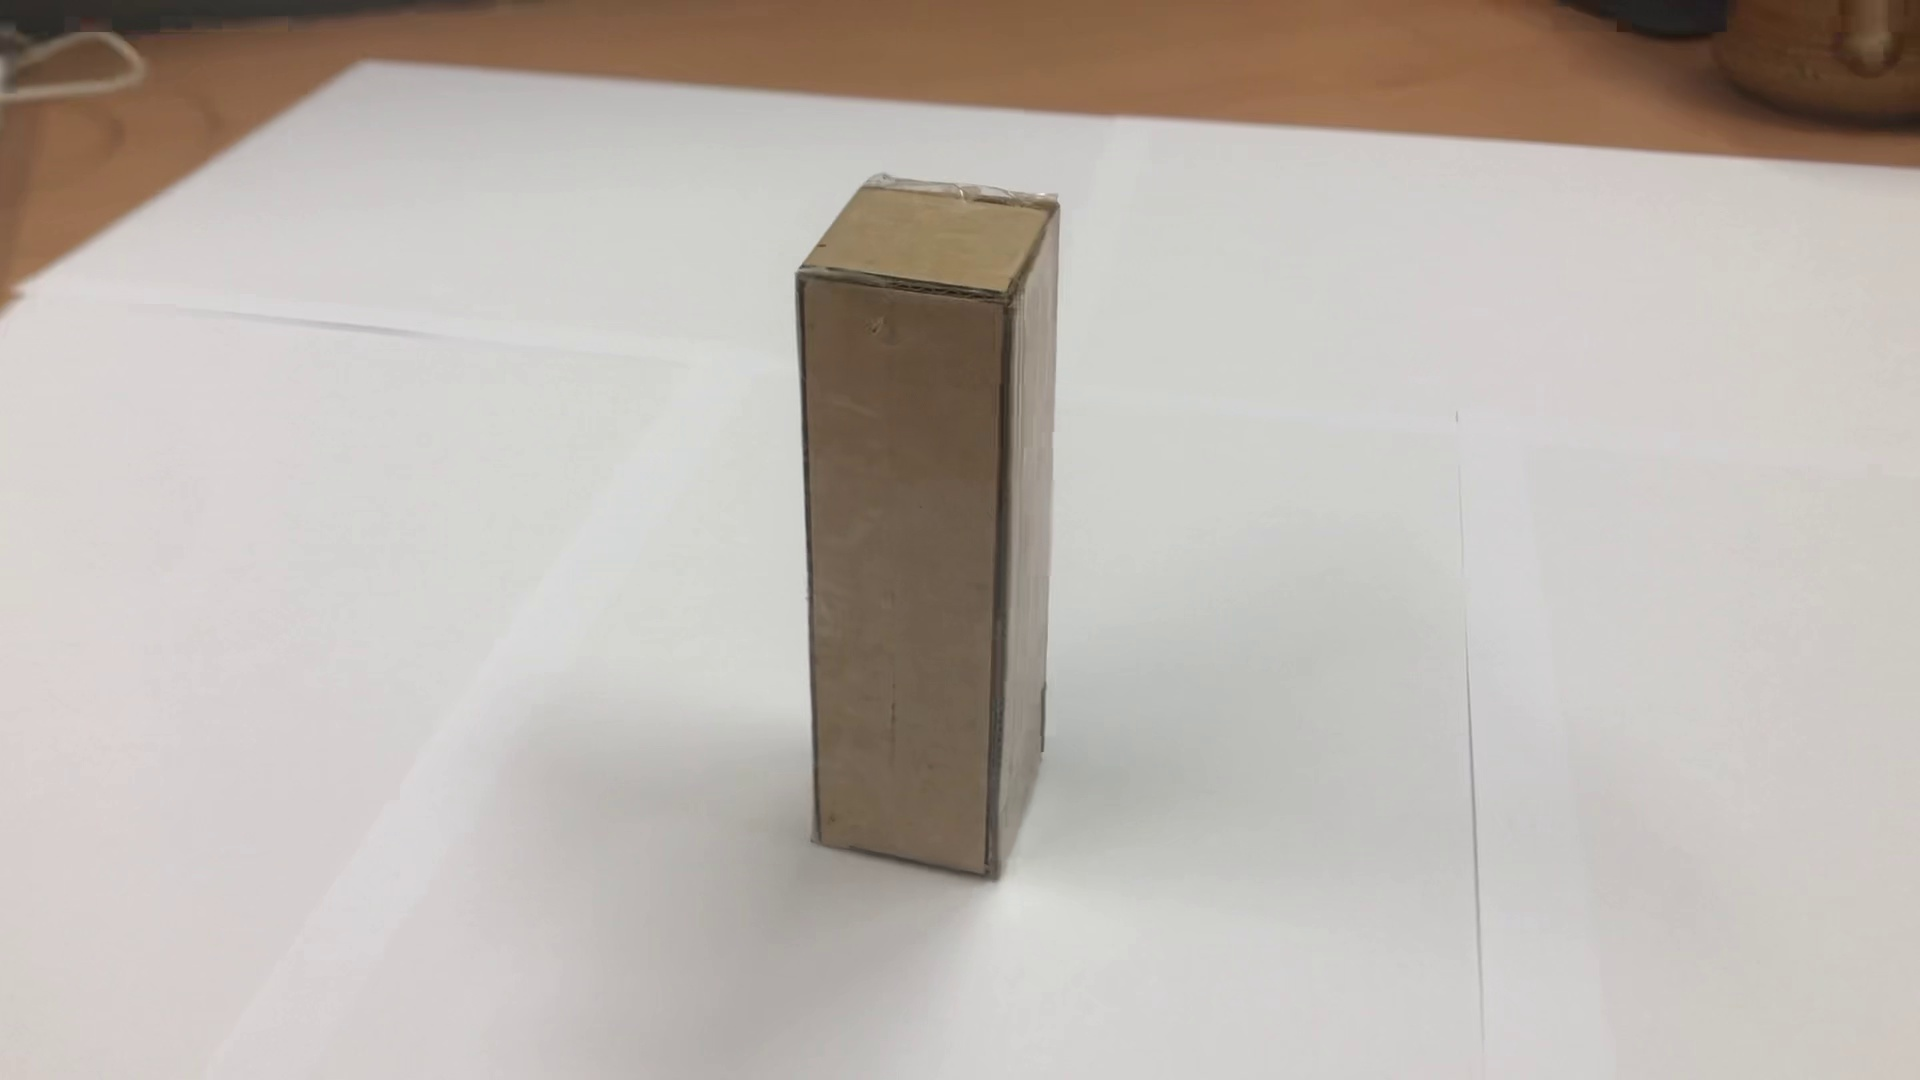box: (775, 152, 1076, 906)
